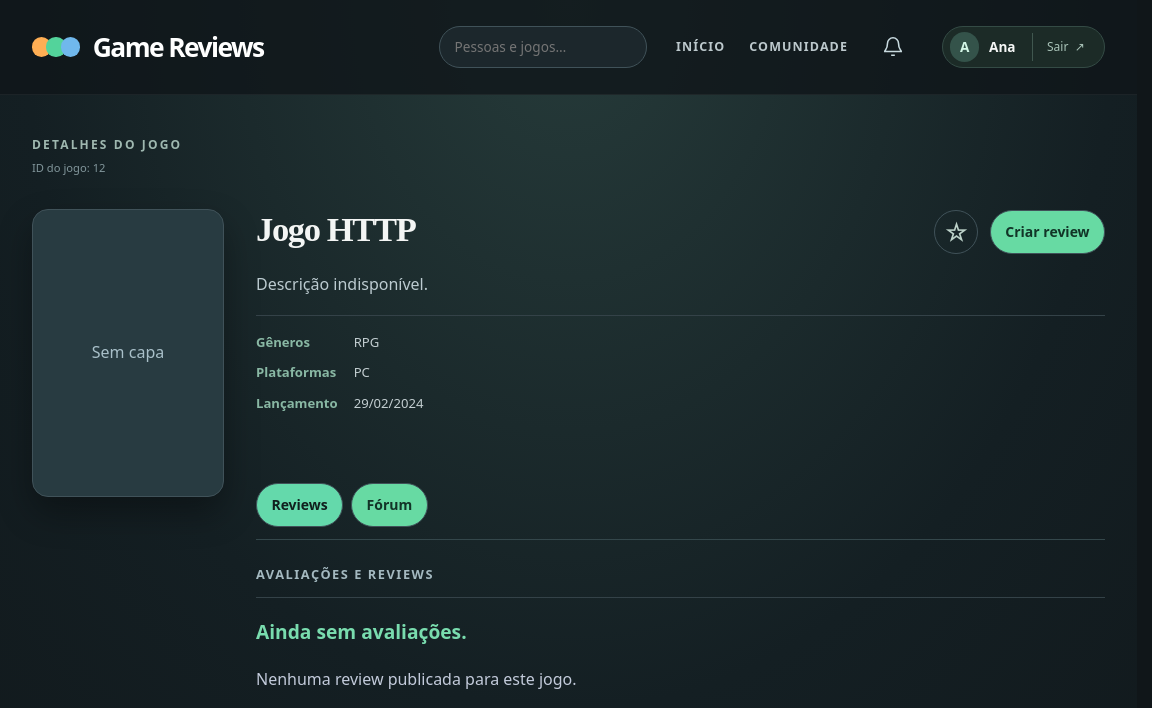
Test: nota 0 sem descrição gera uma única review e revalida própria/média
Click the button "Criar review": (1047, 232) [990, 210, 1105, 254]
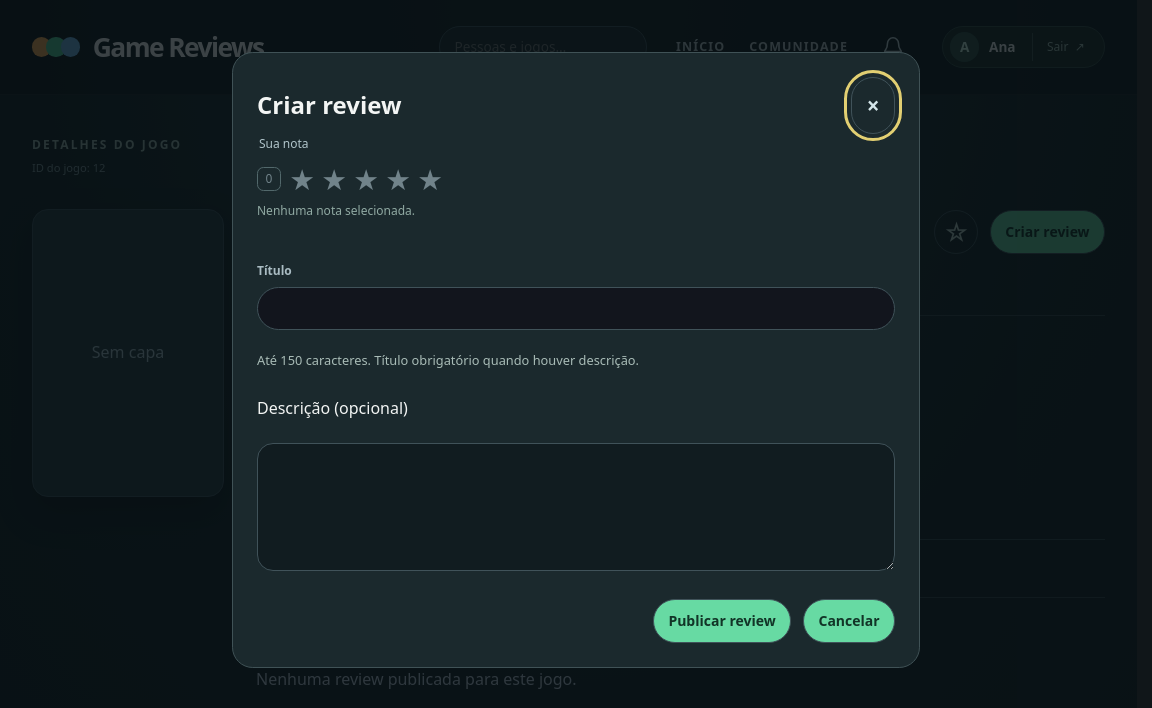
Click the radio button named "0 estrelas": (269, 179) [257, 167, 281, 191]
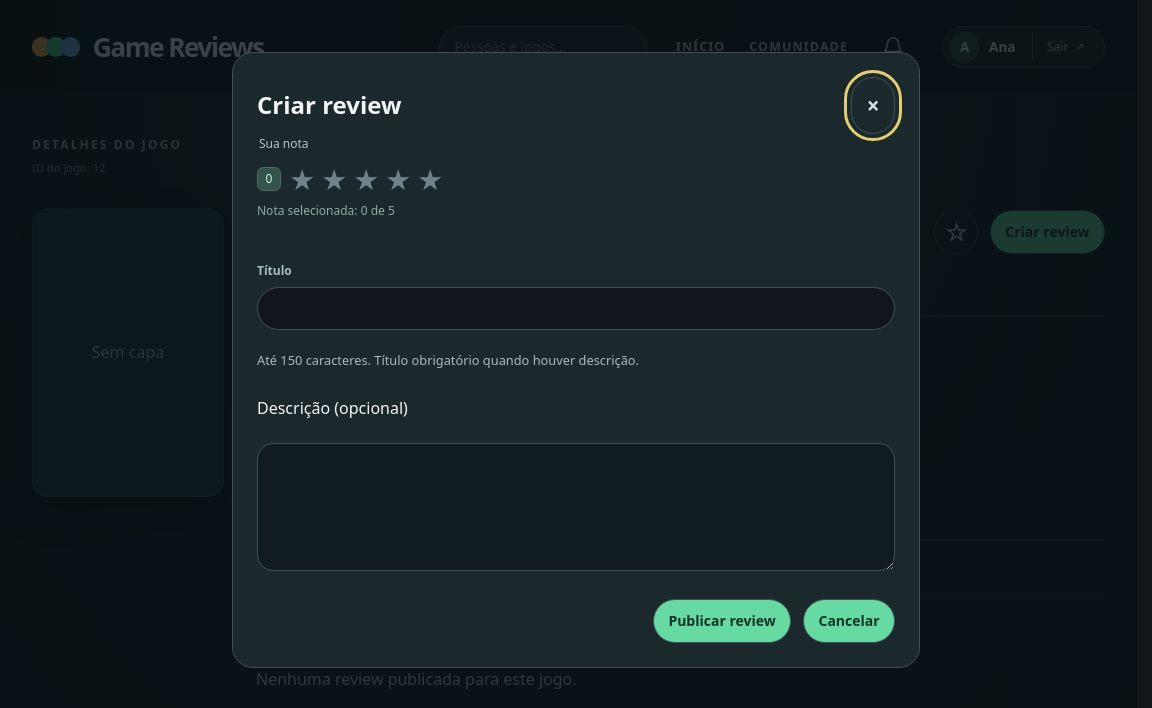
Submit the form named "Publicar review", box [257, 134, 895, 643]
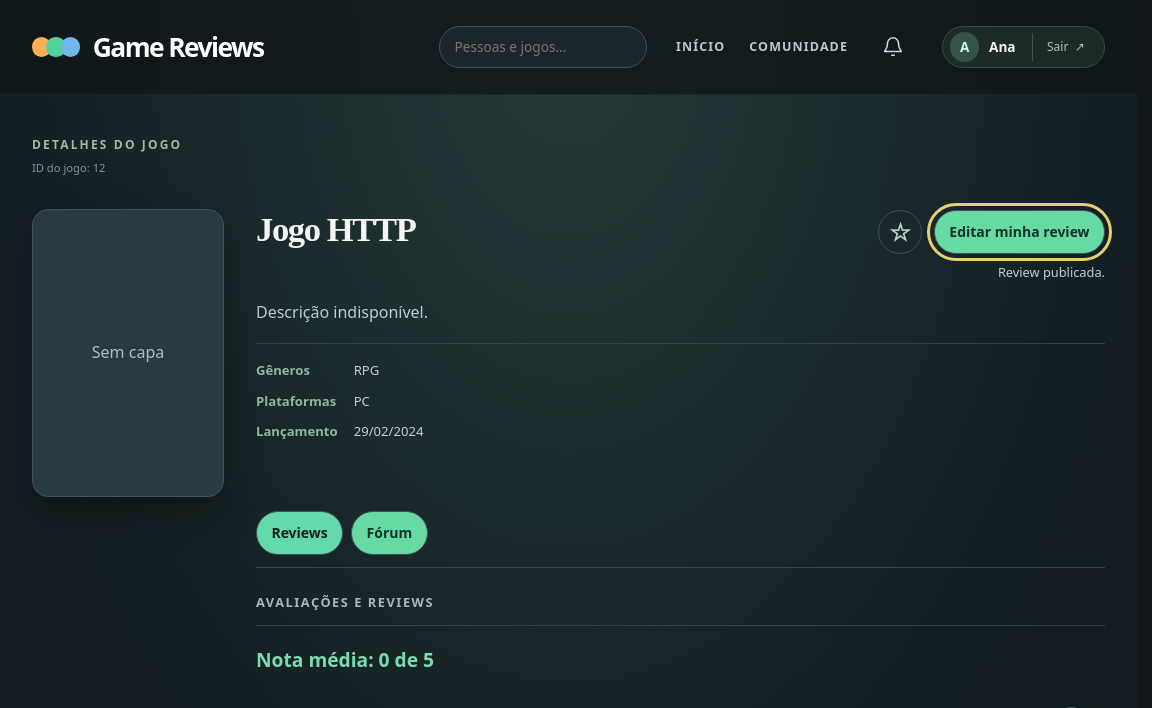
expect the text "Review publicada." is shown: met, box [998, 262, 1105, 282]
expect the button "Editar minha review" is shown: met
Click the button "Editar minha review": (1019, 232) [934, 210, 1105, 254]
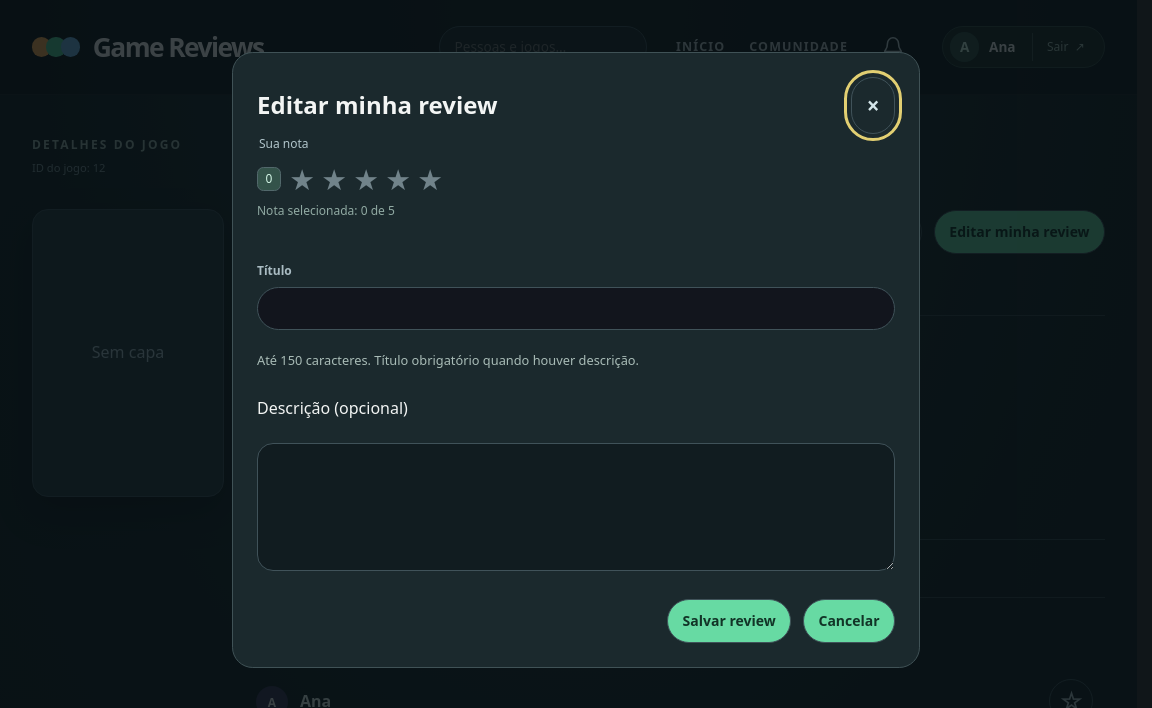
expect the radio button named "0 estrelas" is checked: met, box [257, 167, 281, 191]
